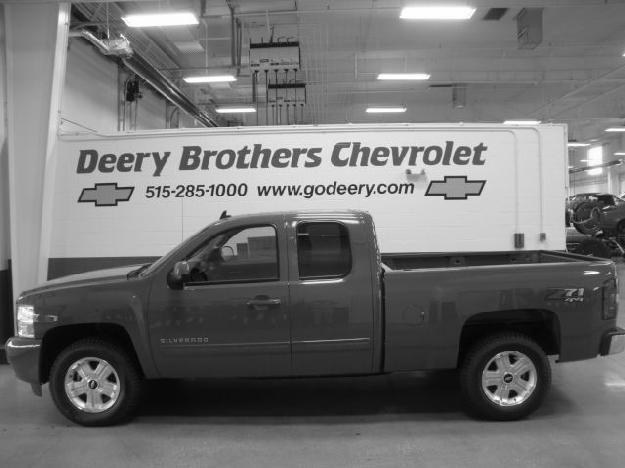car: (6, 209, 625, 427)
